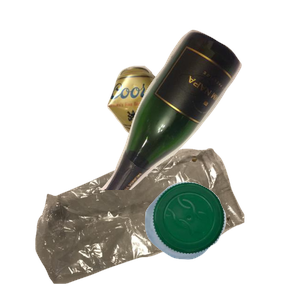glass: (87, 27, 300, 207)
metal: (105, 63, 300, 192)
plastic: (142, 179, 300, 300)
trash: (33, 145, 270, 300)
